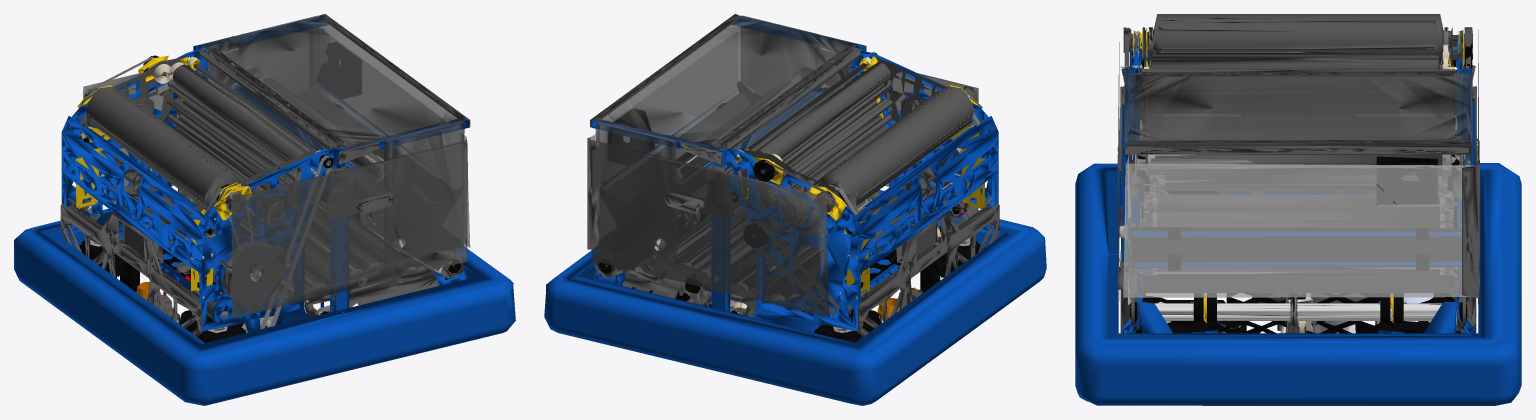
3 renders of one model, left to right at view 1: azimuth 30°, elevation 25°; view 2: azimuth 150°, elevation 25°; view 3: azimuth 270°, elevation 25°, orthographic. The views are drawn at different scales.
Parts seen in each view (by area): view 1: Part 1 (×2), 6328-26C-0117 Dynamic Wall, 6328-26C-0106 Gearbox Outer Plate, 6328-26C-0119 Front Wall, 16t Aluminum Sprocket (#25, 1/2" Hex Bore, Double Hub), 6328-26C-0120 Pin, 6328-26C-3128 Drum-Tower Mounting Plate Thickener, 42t Aluminum Spur Gear (20 DP, 1/2" Hex Bore); view 2: Part 1 (×2), 6328-26C-0117 Dynamic Wall, 6328-26C-0106 Gearbox Outer Plate, 6328-26C-0119 Front Wall, 16t Aluminum Sprocket (#25, 1/2" Hex Bore, Double Hub), 6328-26C-0120 Pin, 6328-26C-3128 Drum-Tower Mounting Plate Thickener; view 3: 6328-26C-0106 Gearbox Outer Plate, Part 1 (×2), 6328-26C-0119 Front Wall, 6328-26C-0117 Dynamic Wall, 16t Aluminum Sprocket (#25, 1/2" Hex Bore, Double Hub), 6328-26C-2322 Intake Deploy Idler Deadaxle, 6328-26C-0120 Pin, 6328-26C-0109 Gearbox Standoff, 6328-26C-0103 Jack Shaft Support Plate.
Part boxes in pixels (bbox=[...]): Part 1 (×2): bbox=[14, 16, 515, 405]; 6328-26C-0117 Dynamic Wall: bbox=[83, 15, 467, 318]; 6328-26C-0106 Gearbox Outer Plate: bbox=[60, 14, 470, 336]; 6328-26C-0119 Front Wall: bbox=[323, 31, 470, 247]; 16t Aluminum Sprocket (#25, 1/2" Hex Bore, Double Hub): bbox=[76, 42, 461, 342]; 6328-26C-0120 Pin: bbox=[83, 56, 406, 331]; 6328-26C-3128 Drum-Tower Mounting Plate Thickener: bbox=[75, 55, 323, 292]; 42t Aluminum Spur Gear (20 DP, 1/2" Hex Bore): bbox=[154, 57, 321, 332]; Part 1 (×2): bbox=[544, 17, 1046, 405]; 6328-26C-0117 Dynamic Wall: bbox=[591, 15, 978, 317]; 6328-26C-0106 Gearbox Outer Plate: bbox=[587, 14, 999, 336]; 6328-26C-0119 Front Wall: bbox=[590, 32, 737, 154]; 16t Aluminum Sprocket (#25, 1/2" Hex Bore, Double Hub): bbox=[599, 52, 984, 342]; 6328-26C-0120 Pin: bbox=[654, 53, 977, 332]; 6328-26C-3128 Drum-Tower Mounting Plate Thickener: bbox=[736, 56, 984, 292]; 6328-26C-0106 Gearbox Outer Plate: bbox=[1117, 14, 1479, 333]; Part 1 (×2): bbox=[1075, 34, 1521, 405]; 6328-26C-0119 Front Wall: bbox=[1123, 163, 1473, 297]; 6328-26C-0117 Dynamic Wall: bbox=[1118, 29, 1478, 304]; 16t Aluminum Sprocket (#25, 1/2" Hex Bore, Double Hub): bbox=[1127, 27, 1472, 333]; 6328-26C-2322 Intake Deploy Idler Deadaxle: bbox=[1132, 154, 1465, 320]; 6328-26C-0120 Pin: bbox=[1119, 27, 1477, 275]; 6328-26C-0109 Gearbox Standoff: bbox=[1119, 155, 1469, 324]; 6328-26C-0103 Jack Shaft Support Plate: bbox=[1149, 27, 1448, 328].
Size of the model in its own units: 0.8764 by 0.5544 by 0.8509.
